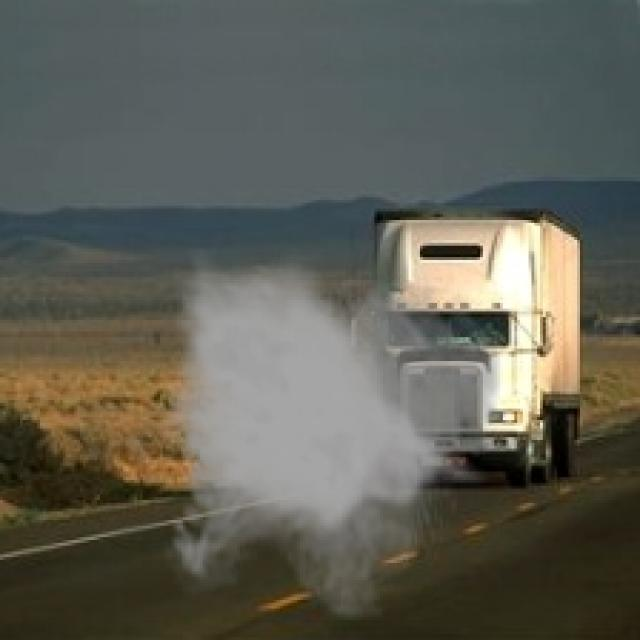Smoke: (160, 248, 506, 620)
